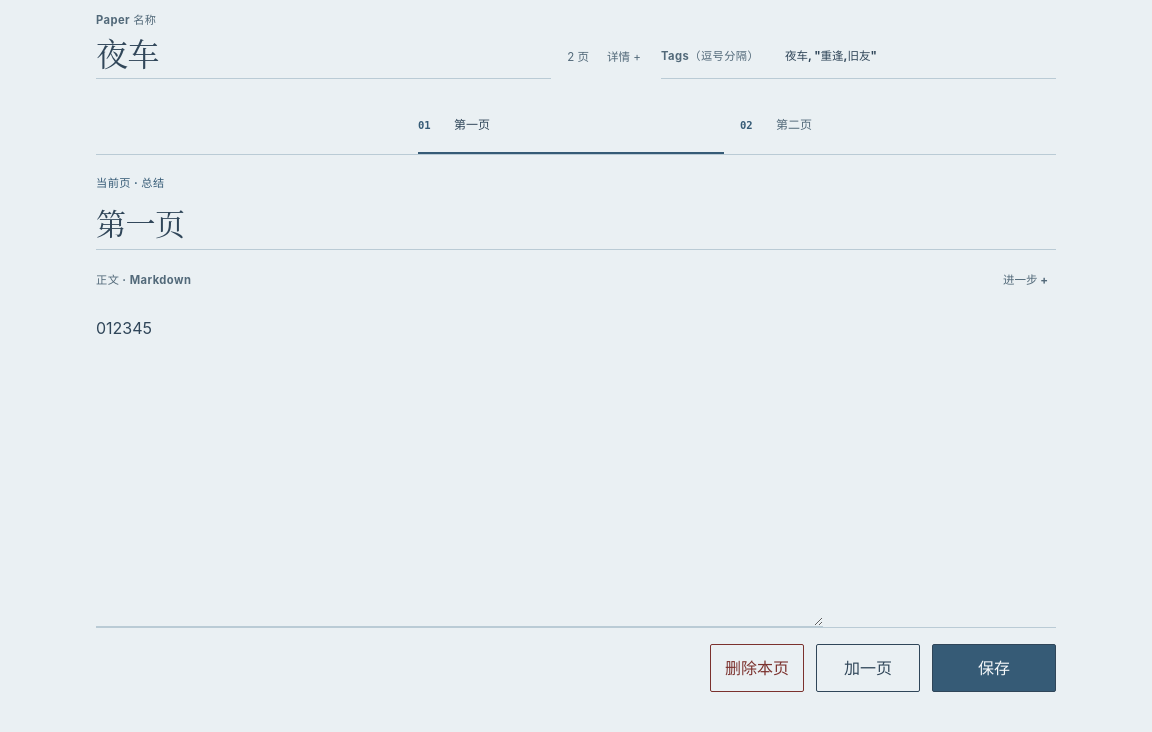
PaperV4Workbench › splits at the end when the content field never had a cursor
The image size is (1152, 732).
Click the button "加一页": coordinates (868, 668) [816, 644, 920, 692]
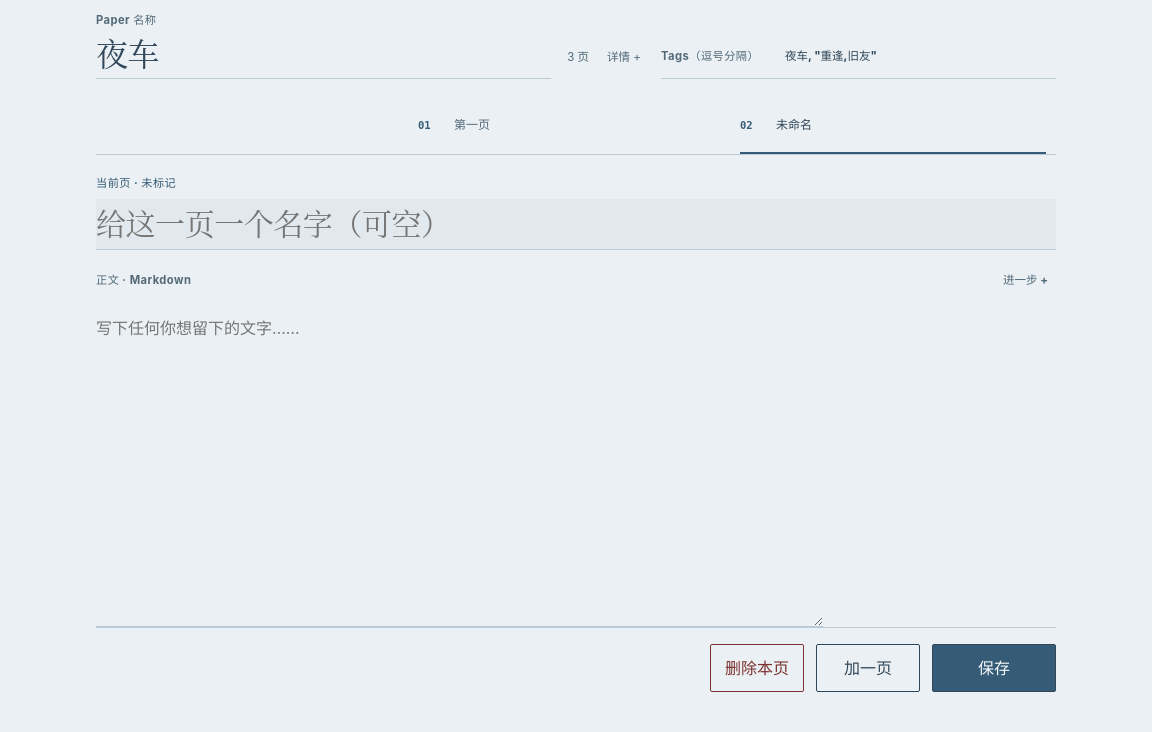
Result: the text box with placeholder "写下任何你想留下的文字……" is empty at [96, 302, 823, 628]
Click the button "01 第一页": coordinates (472, 125) [418, 95, 724, 154]
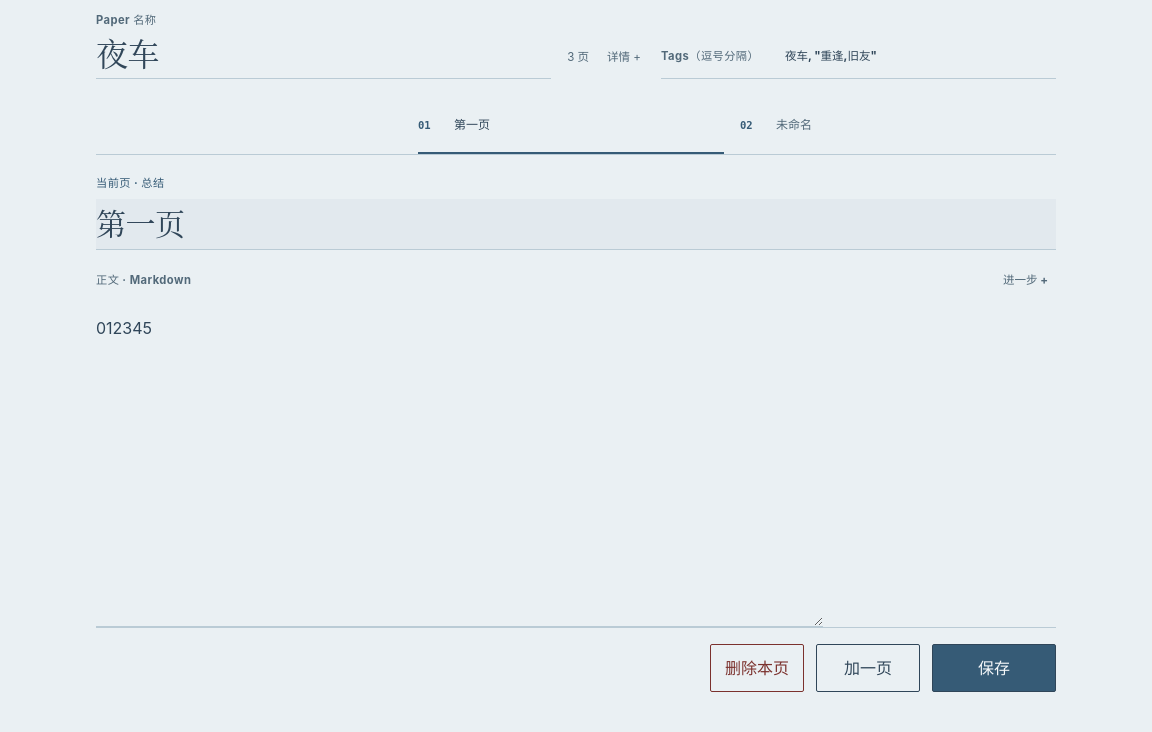
Result: the text box holds "012345" at [96, 302, 823, 628]
